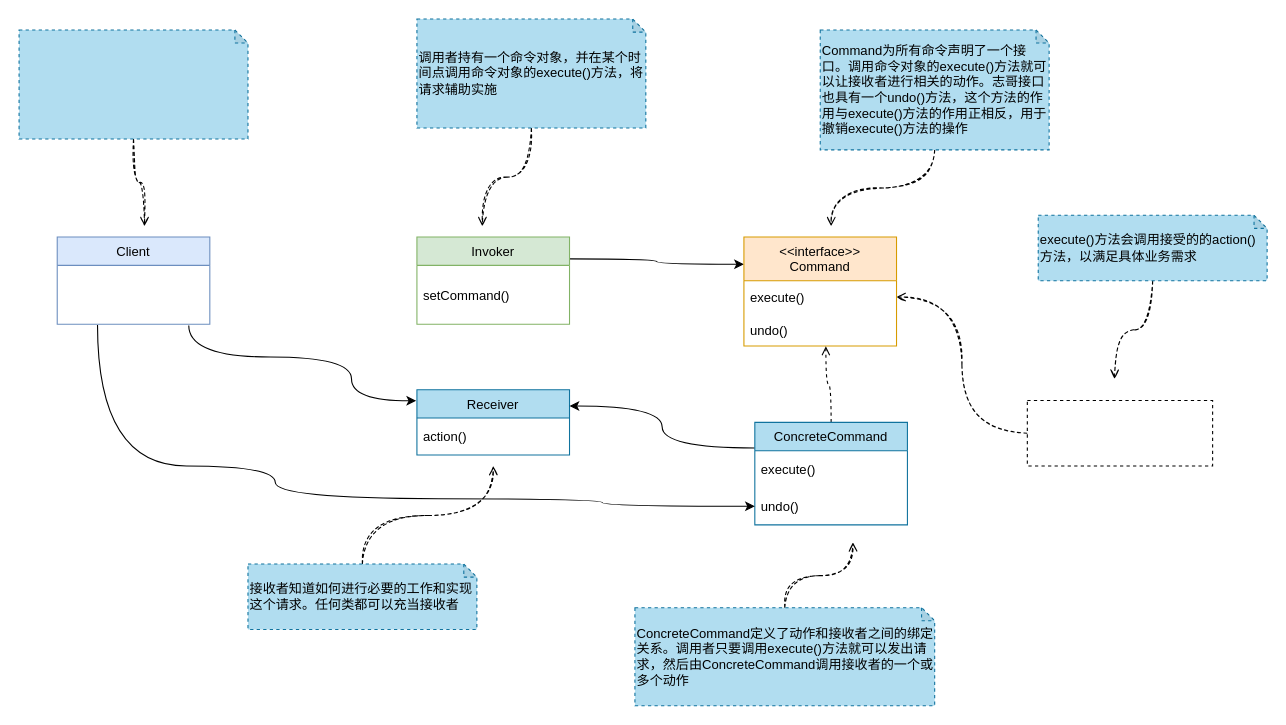
The diagram is 1286 pixels wide and 725 high, and some of its shapes have lost their labels. Each missing label, with the centre of its shape:
"public void execute() { receiver.action() }" goes at (x=1119, y=432).
"客户端负责创建一个ConcretConmmand，并设置其接收者" goes at (x=133, y=84).
